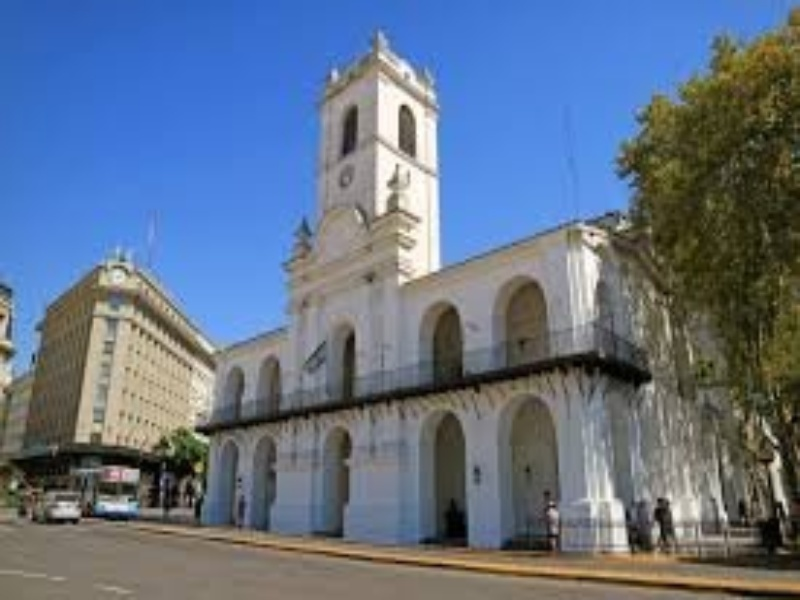cabildo: (190, 28, 655, 551)
